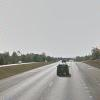Car: (52, 59, 75, 85)
